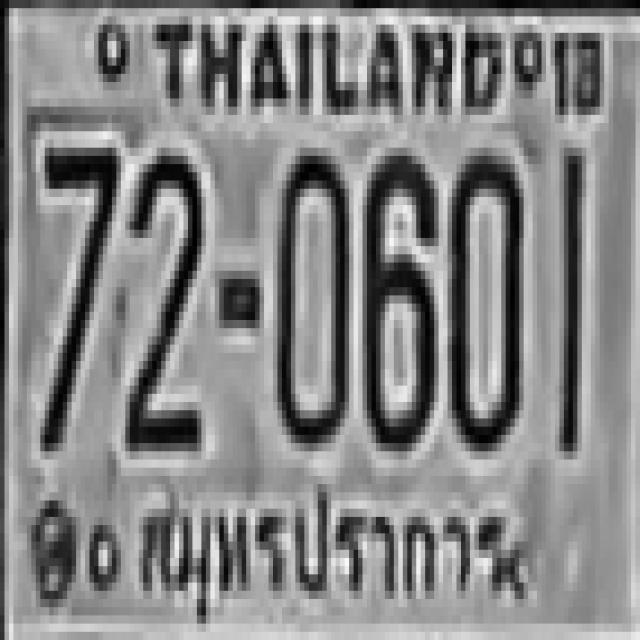0: (277, 150, 348, 446), (452, 151, 523, 447)
1: (557, 148, 580, 451)
2: (129, 150, 205, 454)
6: (364, 153, 435, 449)
7: (44, 145, 120, 449)
SamutPrakan: (128, 469, 514, 628)
